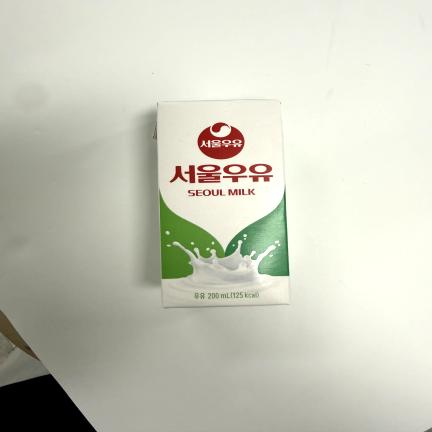milk_green: (152, 99, 290, 308)
